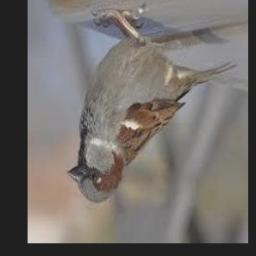Sparrow: (66, 10, 236, 204)
